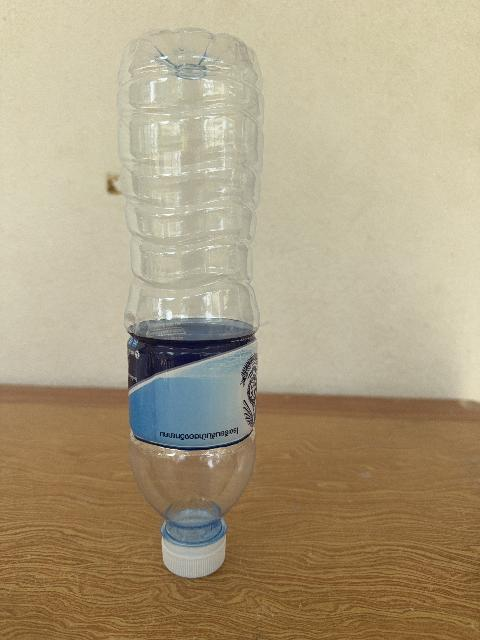bottle: (118, 29, 263, 577)
